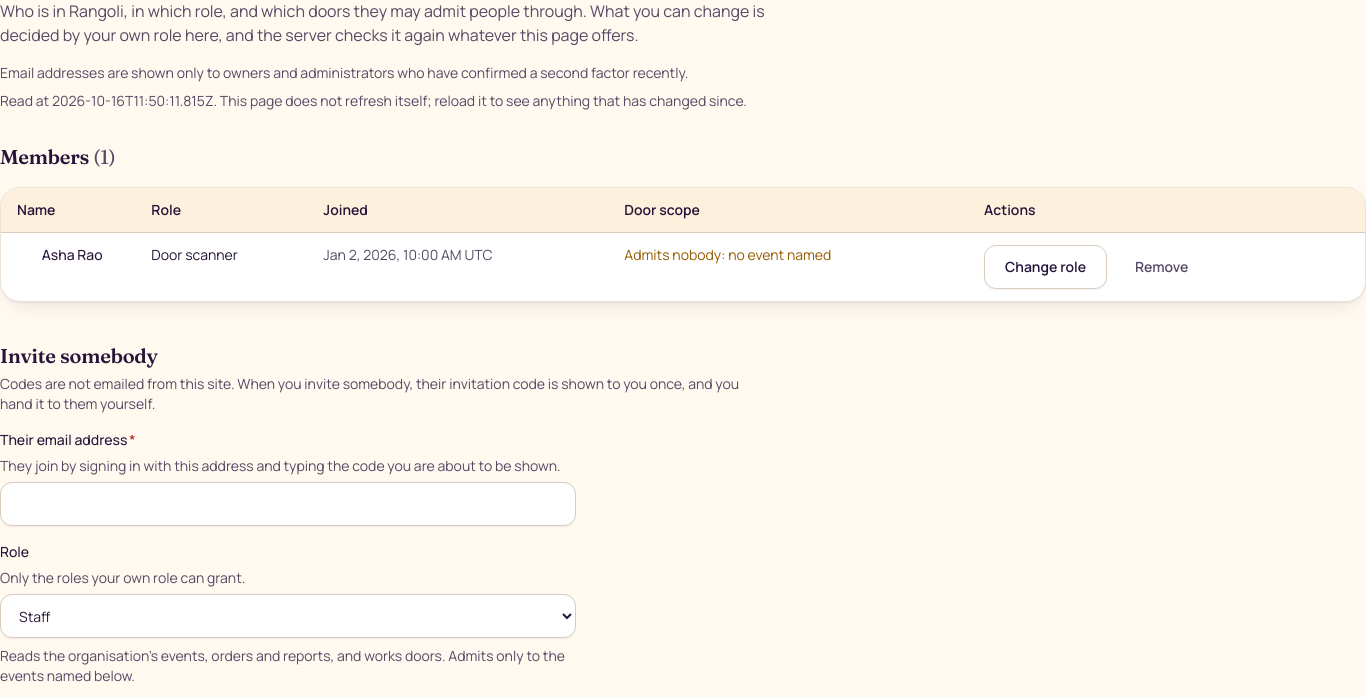
door scopes › says how many events the picker leaves out when the organisation has more than it lists
The image size is (1366, 697).
Click the button with aria-label "Change Asha Rao’s role" at (1046, 267), box [984,245,1107,289]
(page scrolled)
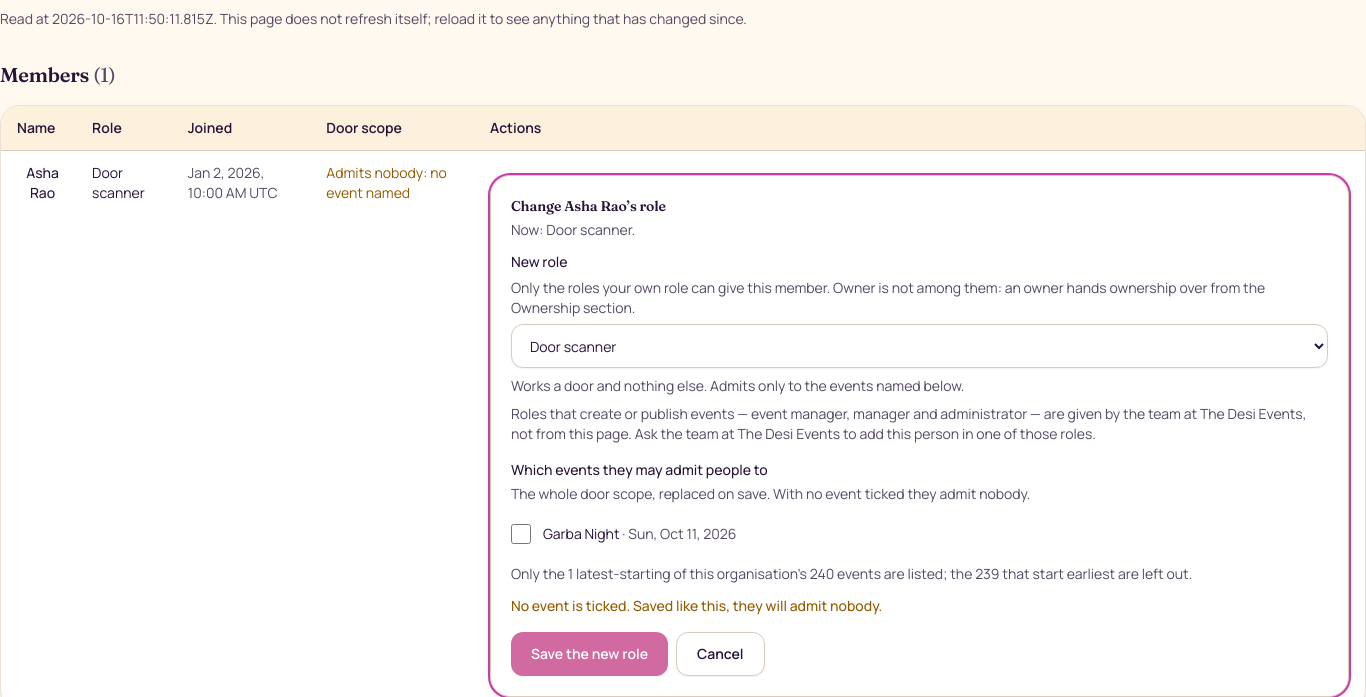
Check: the text "Only the 1 latest-starting of this organisation’s 240 events are listed; the 239 that start earliest are left out." is shown, box [511,564,1192,583]
